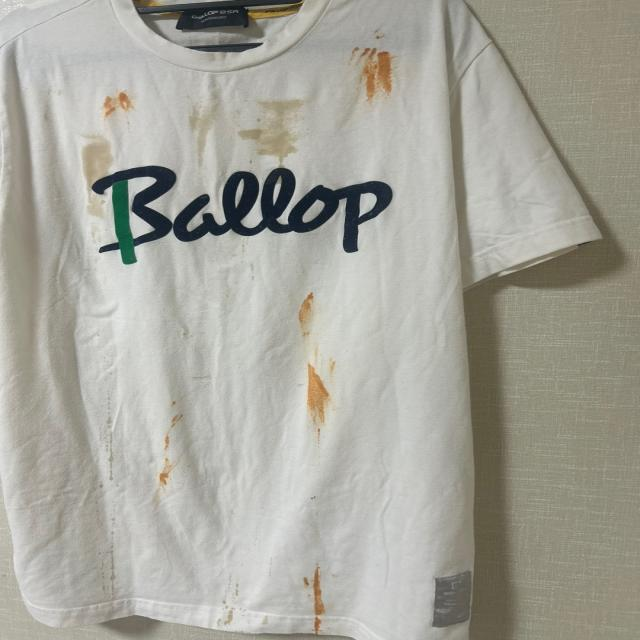stain: (303, 362, 334, 447), (255, 129, 304, 169), (81, 176, 109, 218), (80, 144, 115, 177), (296, 292, 316, 338), (253, 113, 303, 131), (196, 112, 212, 168), (378, 52, 396, 98), (359, 60, 377, 101), (152, 458, 176, 488), (260, 98, 304, 114), (108, 517, 118, 584), (313, 567, 326, 617), (103, 447, 120, 482), (348, 46, 377, 66), (115, 90, 139, 113), (98, 95, 118, 118), (236, 128, 264, 142), (80, 132, 108, 146), (104, 389, 114, 428), (311, 614, 327, 638), (98, 433, 116, 448), (162, 432, 175, 452), (189, 106, 199, 129), (170, 413, 184, 428), (107, 584, 119, 601), (312, 348, 323, 366), (230, 584, 243, 599), (225, 612, 238, 627), (370, 28, 386, 39), (123, 116, 133, 132), (299, 576, 312, 588), (166, 400, 181, 410), (216, 600, 231, 610), (230, 605, 248, 613), (329, 359, 337, 376), (99, 581, 108, 593), (269, 558, 274, 578), (262, 618, 273, 626), (98, 482, 106, 492), (226, 574, 232, 586), (255, 525, 257, 549), (218, 617, 222, 628), (311, 495, 317, 500)
